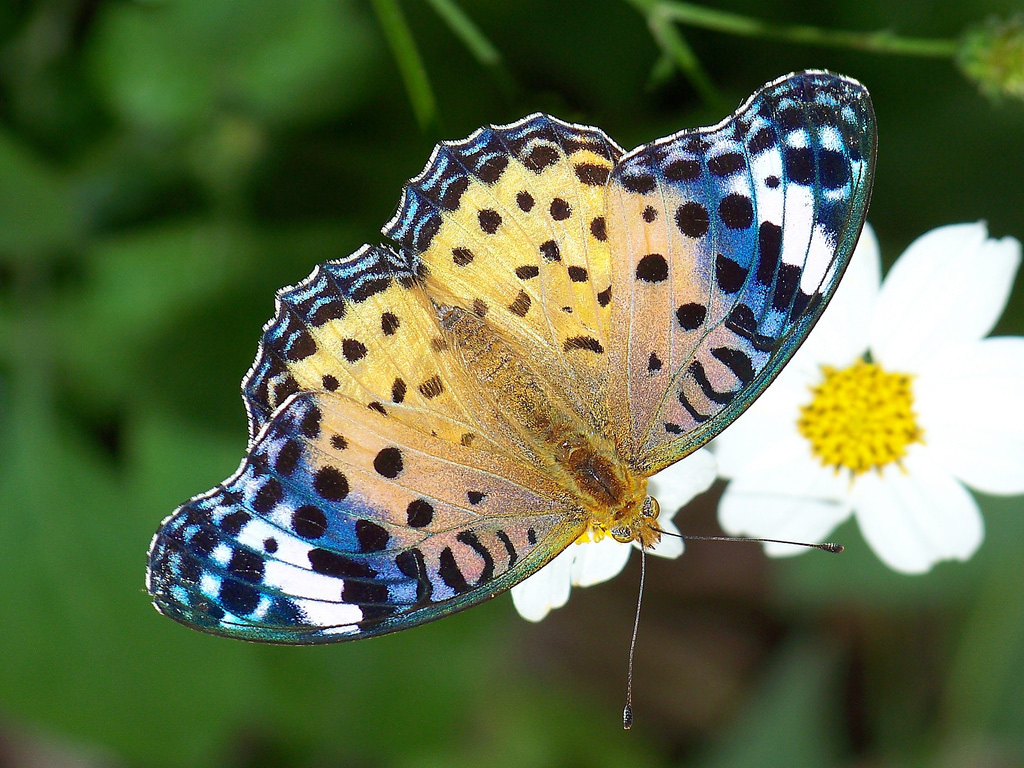Argyreus hyperbius: (133, 63, 881, 727)
butterfly: (135, 65, 883, 729)
